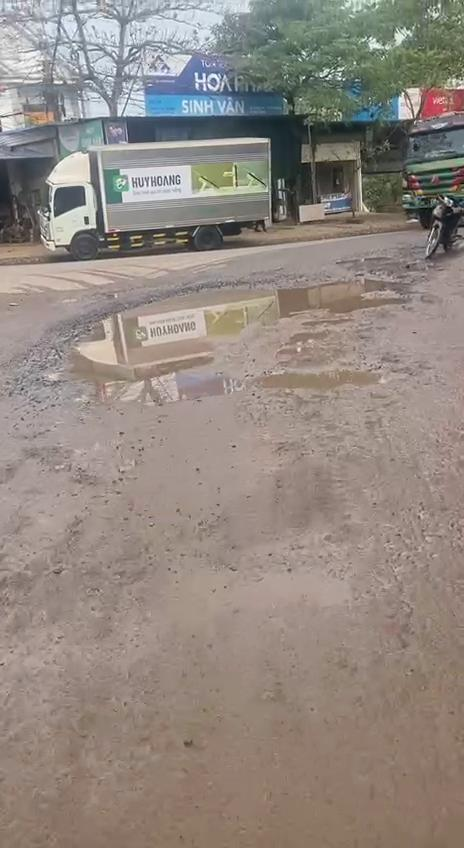pothole: (32, 270, 442, 407)
